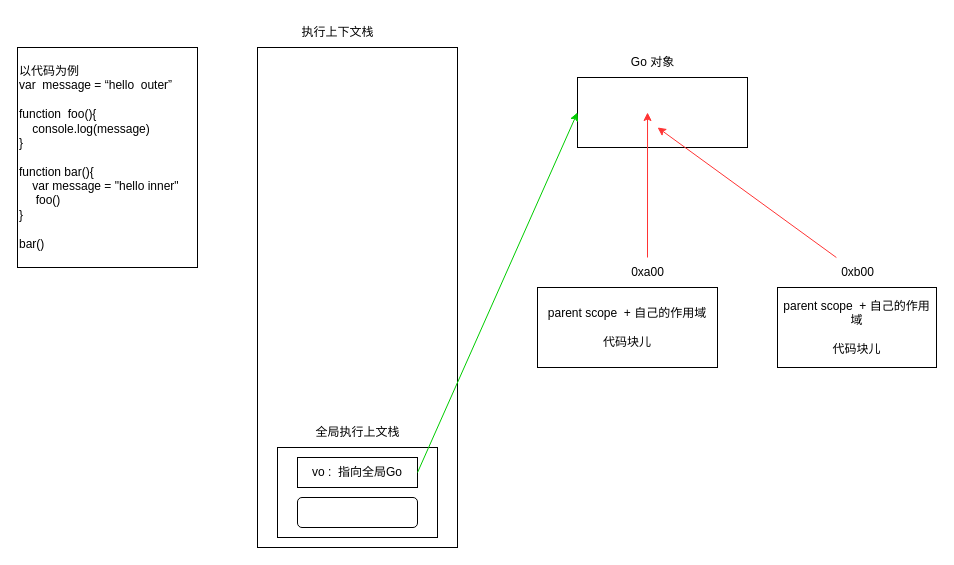
The diagram is 954 pixels wide and 565 high, and some of its shapes have lost their labels. Here are the shapes that lost their labels. From the top down, the centre of each, then its label:
At (x=662, y=112): "{ message： undefined foo: 0xa00 bar: 0xb00 }".
At (x=357, y=512): "执行体".
